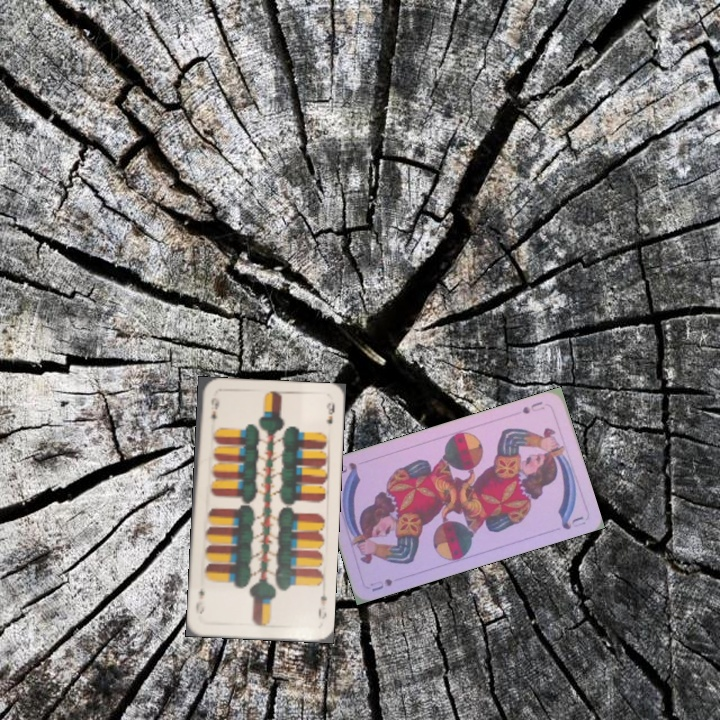E9: (314, 586, 329, 621), (207, 394, 220, 423)
SU: (366, 574, 395, 594), (518, 397, 547, 416)
